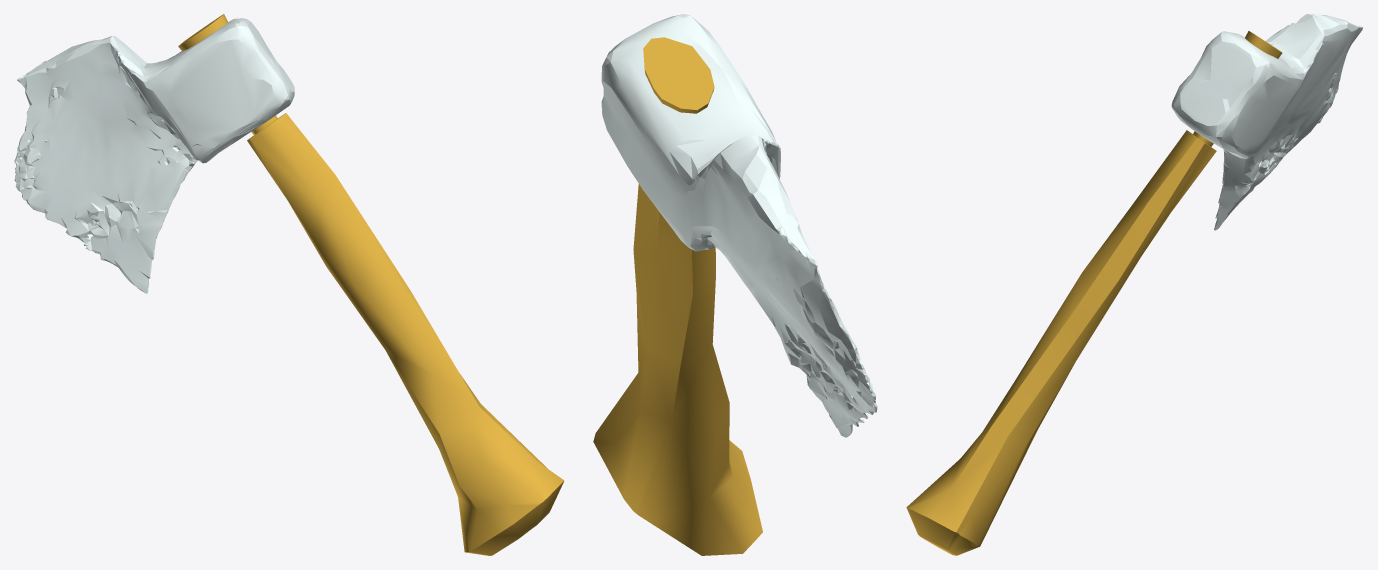
File: axe-iron-62.glb
3 renders of one model, left to right at view 1: azimuth 30°, elevation 25°; view 2: azimuth 150°, elevation 25°; view 3: azimuth 270°, elevation 25°, orthographic. The views are drawn at different scales.
Parts seen in each view (by area): view 1: iron-axe-head, iron-axe; view 2: iron-axe-head, iron-axe; view 3: iron-axe, iron-axe-head.
Part boxes in pixels (x1,y1,x2,y2): iron-axe-head: (14, 18, 294, 293); iron-axe: (178, 14, 564, 555); iron-axe-head: (601, 14, 877, 437); iron-axe: (593, 37, 762, 555); iron-axe: (906, 31, 1282, 555); iron-axe-head: (1171, 14, 1363, 230).
Bounding box in the file's own units: 0.7055 × 0.8644 × 0.7718.
